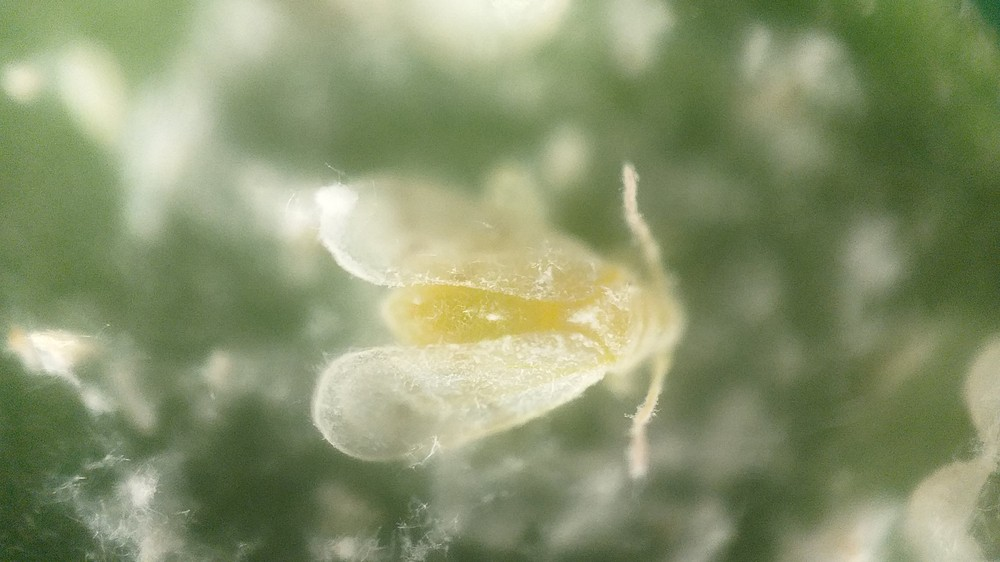Mosca Blanca: (291, 135, 711, 482)
